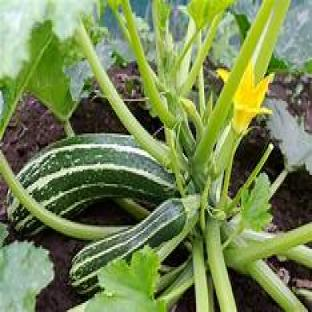Zucchini: (18, 134, 175, 218), (70, 197, 198, 293)
